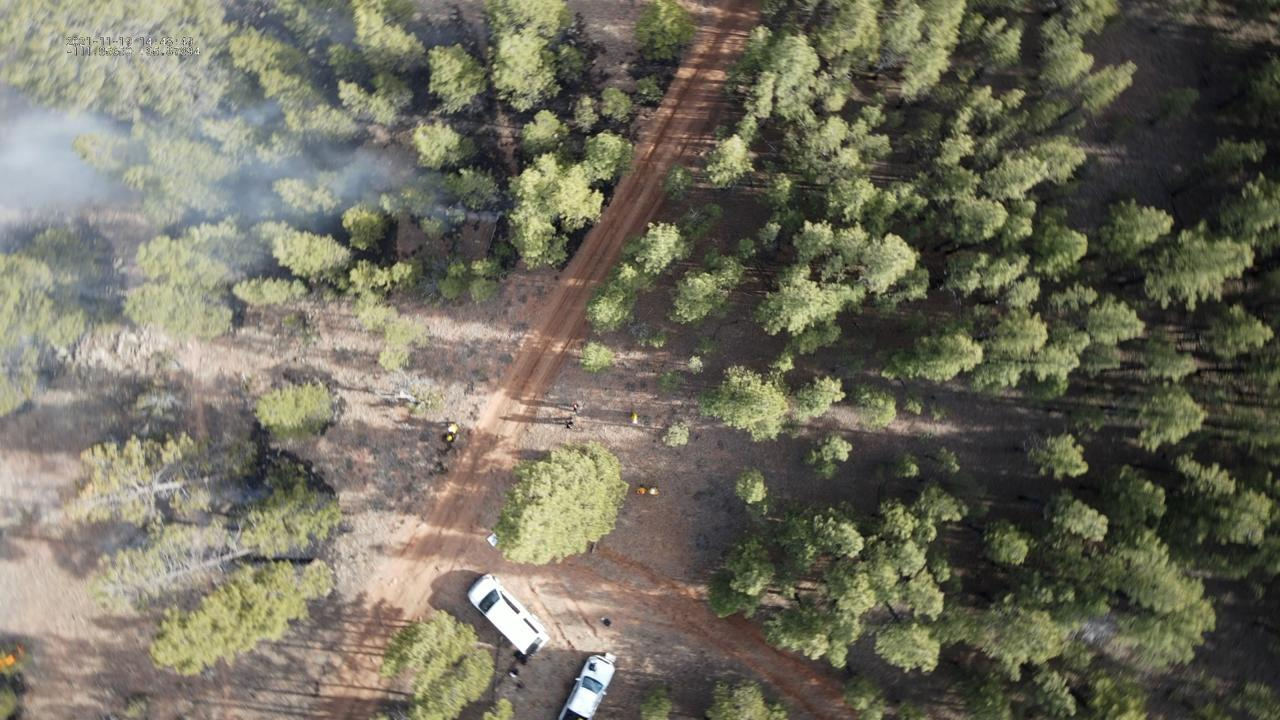smoke: (0, 81, 508, 234)
